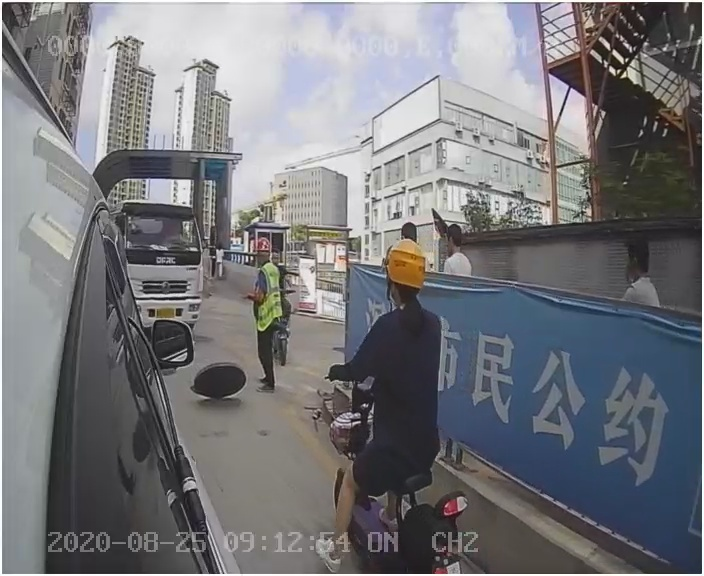person: (245, 237, 289, 397)
